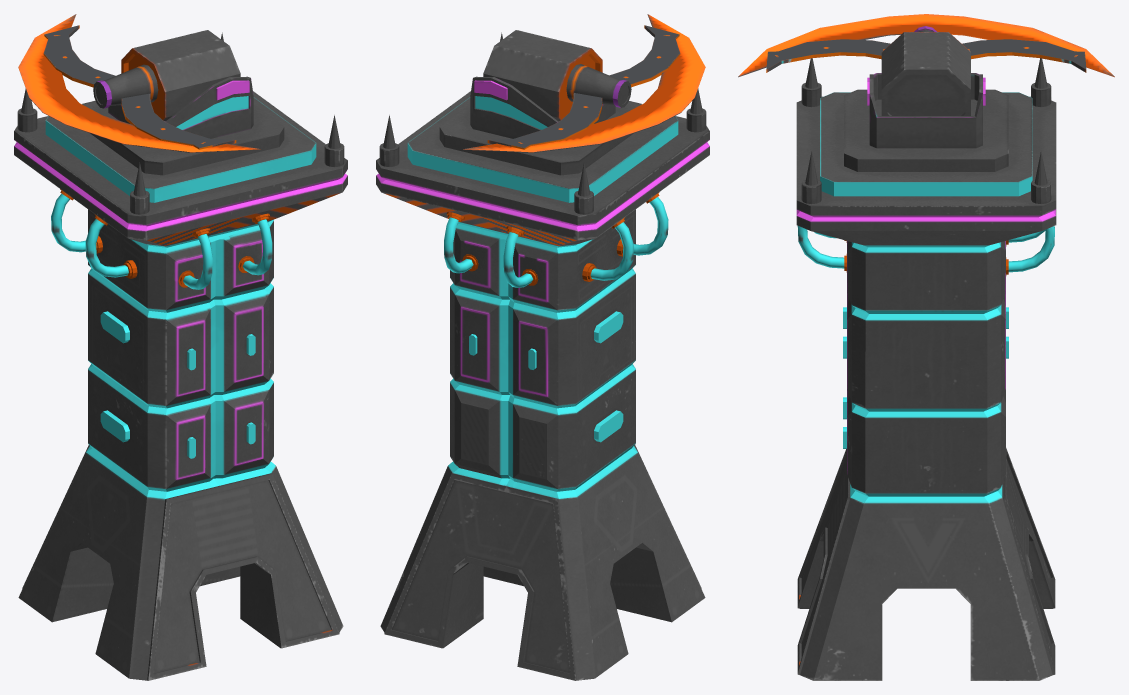
Rendered from slash_tower.fbx.
3 views of the same model, side by side, from view 1: azimuth 30°, elevation 25°; view 2: azimuth 150°, elevation 25°; view 3: azimuth 270°, elevation 25° (orthographic). The views are drawn at different scales.
Parts seen in each view (by area): view 1: tower, Plane, gun, gun_base, barrel_R.001; view 2: tower, Plane, gun, gun_base, barrel_R.001; view 3: tower, Plane, gun, gun_base.
Part boxes in pixels (bbox=[...]): tower: bbox=[14, 32, 347, 680]; Plane: bbox=[18, 14, 260, 152]; gun: bbox=[121, 30, 240, 121]; gun_base: bbox=[108, 76, 253, 149]; barrel_R.001: bbox=[93, 64, 158, 108]; tower: bbox=[376, 32, 709, 680]; Plane: bbox=[463, 14, 705, 152]; gun: bbox=[483, 30, 602, 121]; gun_base: bbox=[470, 76, 615, 148]; barrel_R.001: bbox=[566, 64, 631, 107]; tower: bbox=[796, 58, 1056, 680]; Plane: bbox=[738, 14, 1114, 77]; gun: bbox=[881, 32, 970, 115]; gun_base: bbox=[867, 73, 985, 148].
Bounding box in the file's own units: 1161 × 2523 × 1494.
